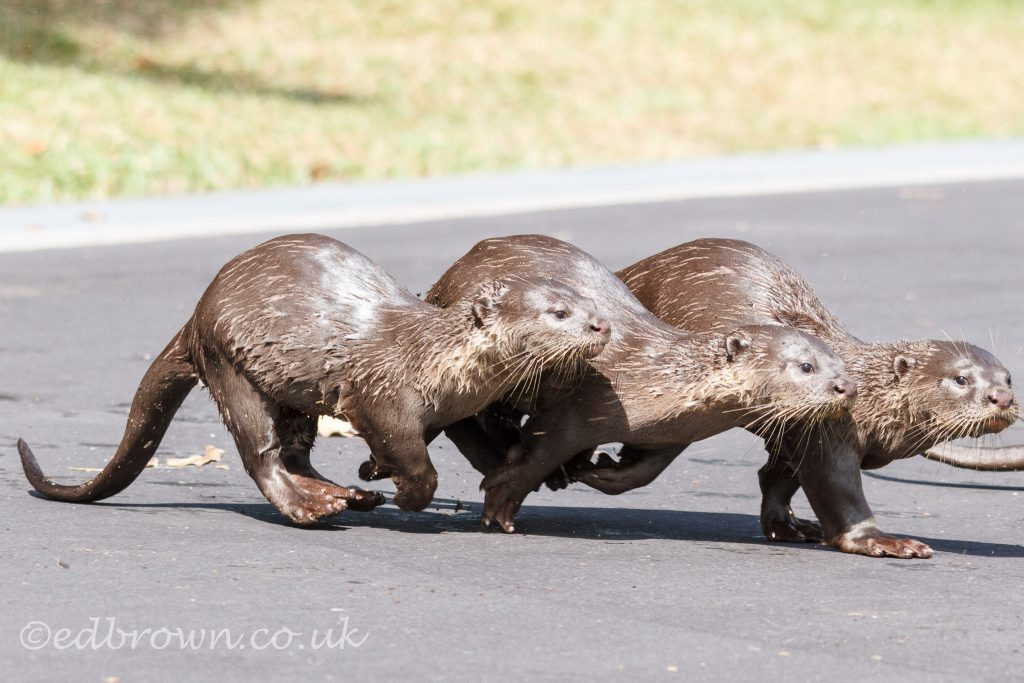otter: (9, 228, 616, 541), (597, 211, 1021, 568), (409, 225, 857, 538)
